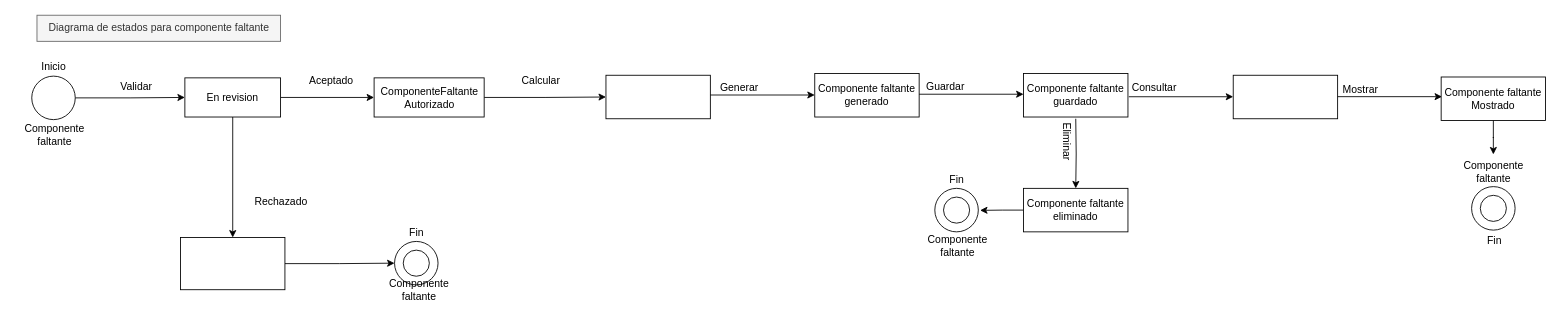
This 1561x323 diagram has some shape labels left out. The shapes that lost their labels are listed below. From the top down, each one's centre as x and y in pixels, then its label:
[657,96]: Componente faltante calculado
[1285,96]: Componente faltante consultado
[232,263]: Componente faltante invalido
